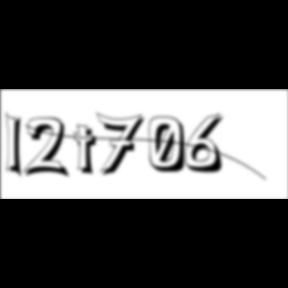0: (148, 115, 194, 174)
2: (24, 117, 74, 181)
6: (186, 112, 230, 176)
7: (97, 111, 152, 179)
I: (6, 110, 30, 182)
t: (74, 124, 104, 179)
